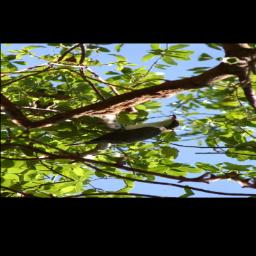Cuckoo: (63, 104, 185, 157)
